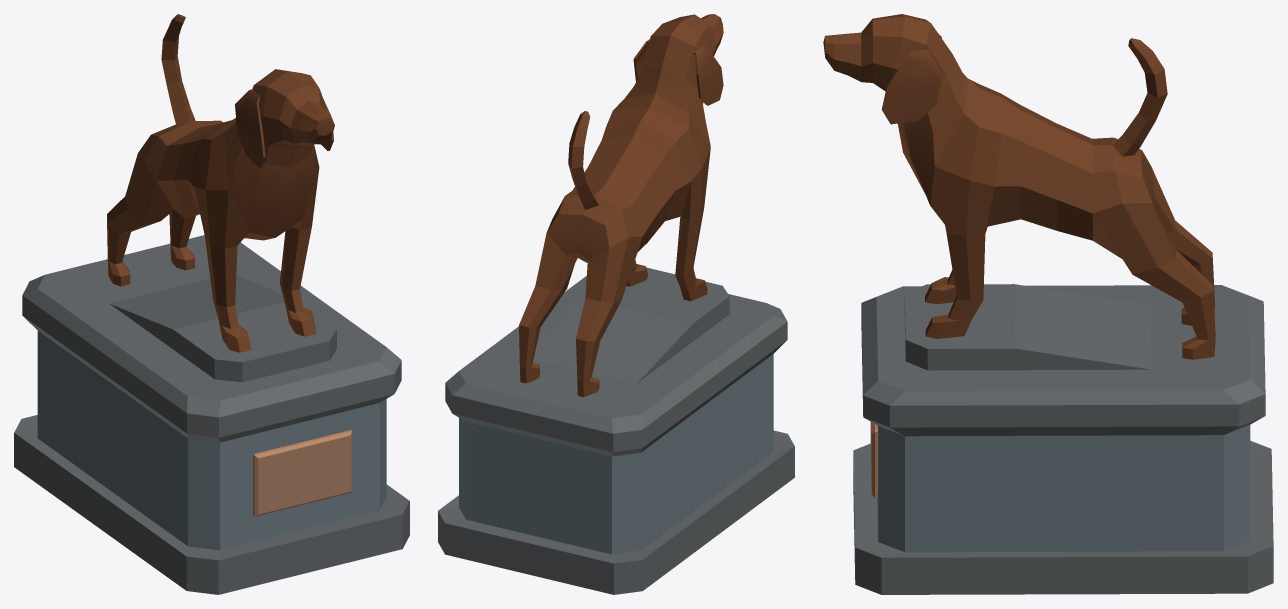
Rendered from Environment_AnimalStatue_Dog_Flat.fbx.
3 renders of one model, left to right at view 1: azimuth 30°, elevation 25°; view 2: azimuth 150°, elevation 25°; view 3: azimuth 270°, elevation 25°, orthographic. The views are drawn at different scales.
Visible parts, largest first — view 1: Environment_AnimalStatueStand.002, Environment_AnimalStatueStand_Dog.002, Environment_AnimalStatueStand_Raiser.002, Environment_AnimalStatueStand_Plaque.002; view 2: Environment_AnimalStatueStand.002, Environment_AnimalStatueStand_Dog.002, Environment_AnimalStatueStand_Raiser.002; view 3: Environment_AnimalStatueStand.002, Environment_AnimalStatueStand_Dog.002, Environment_AnimalStatueStand_Raiser.002.
Part boxes in pixels (left/top/right/bottom): Environment_AnimalStatueStand.002: left=14, top=235, right=409, bottom=594; Environment_AnimalStatueStand_Dog.002: left=107, top=14, right=334, bottom=352; Environment_AnimalStatueStand_Raiser.002: left=109, top=275, right=336, bottom=382; Environment_AnimalStatueStand_Plaque.002: left=253, top=430, right=351, bottom=516; Environment_AnimalStatueStand.002: left=438, top=276, right=794, bottom=594; Environment_AnimalStatueStand_Dog.002: left=519, top=14, right=723, bottom=397; Environment_AnimalStatueStand_Raiser.002: left=533, top=267, right=729, bottom=383; Environment_AnimalStatueStand.002: left=853, top=285, right=1273, bottom=594; Environment_AnimalStatueStand_Dog.002: left=823, top=14, right=1215, bottom=359; Environment_AnimalStatueStand_Raiser.002: left=904, top=284, right=1151, bottom=370.
Bounding box in the file's own units: 227 × 463 × 363.
